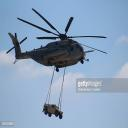helicopter: (5, 10, 111, 75)
